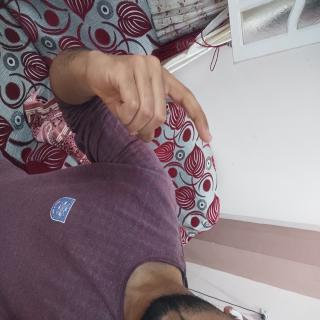RAA: (33, 142, 114, 318)
